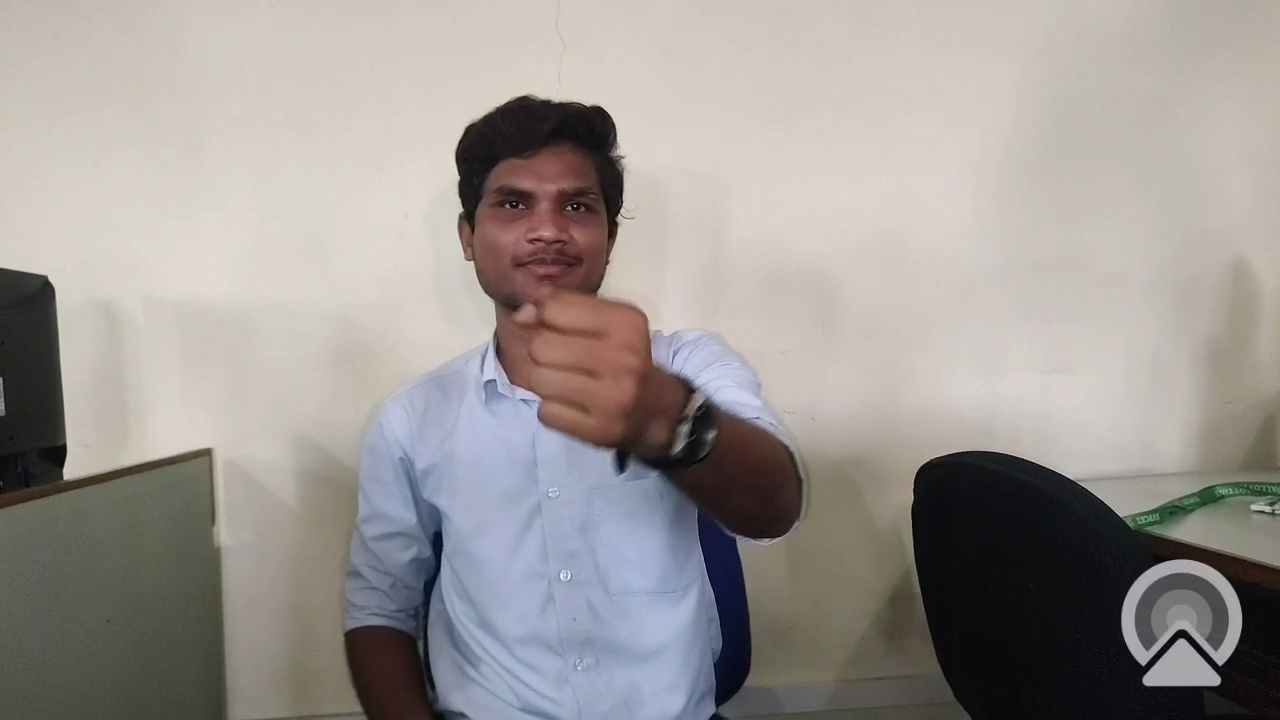Yes: (489, 276, 676, 481)
